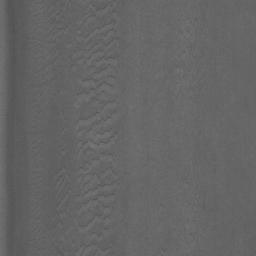Silk spot: (28, 0, 128, 256), (34, 0, 71, 53)
